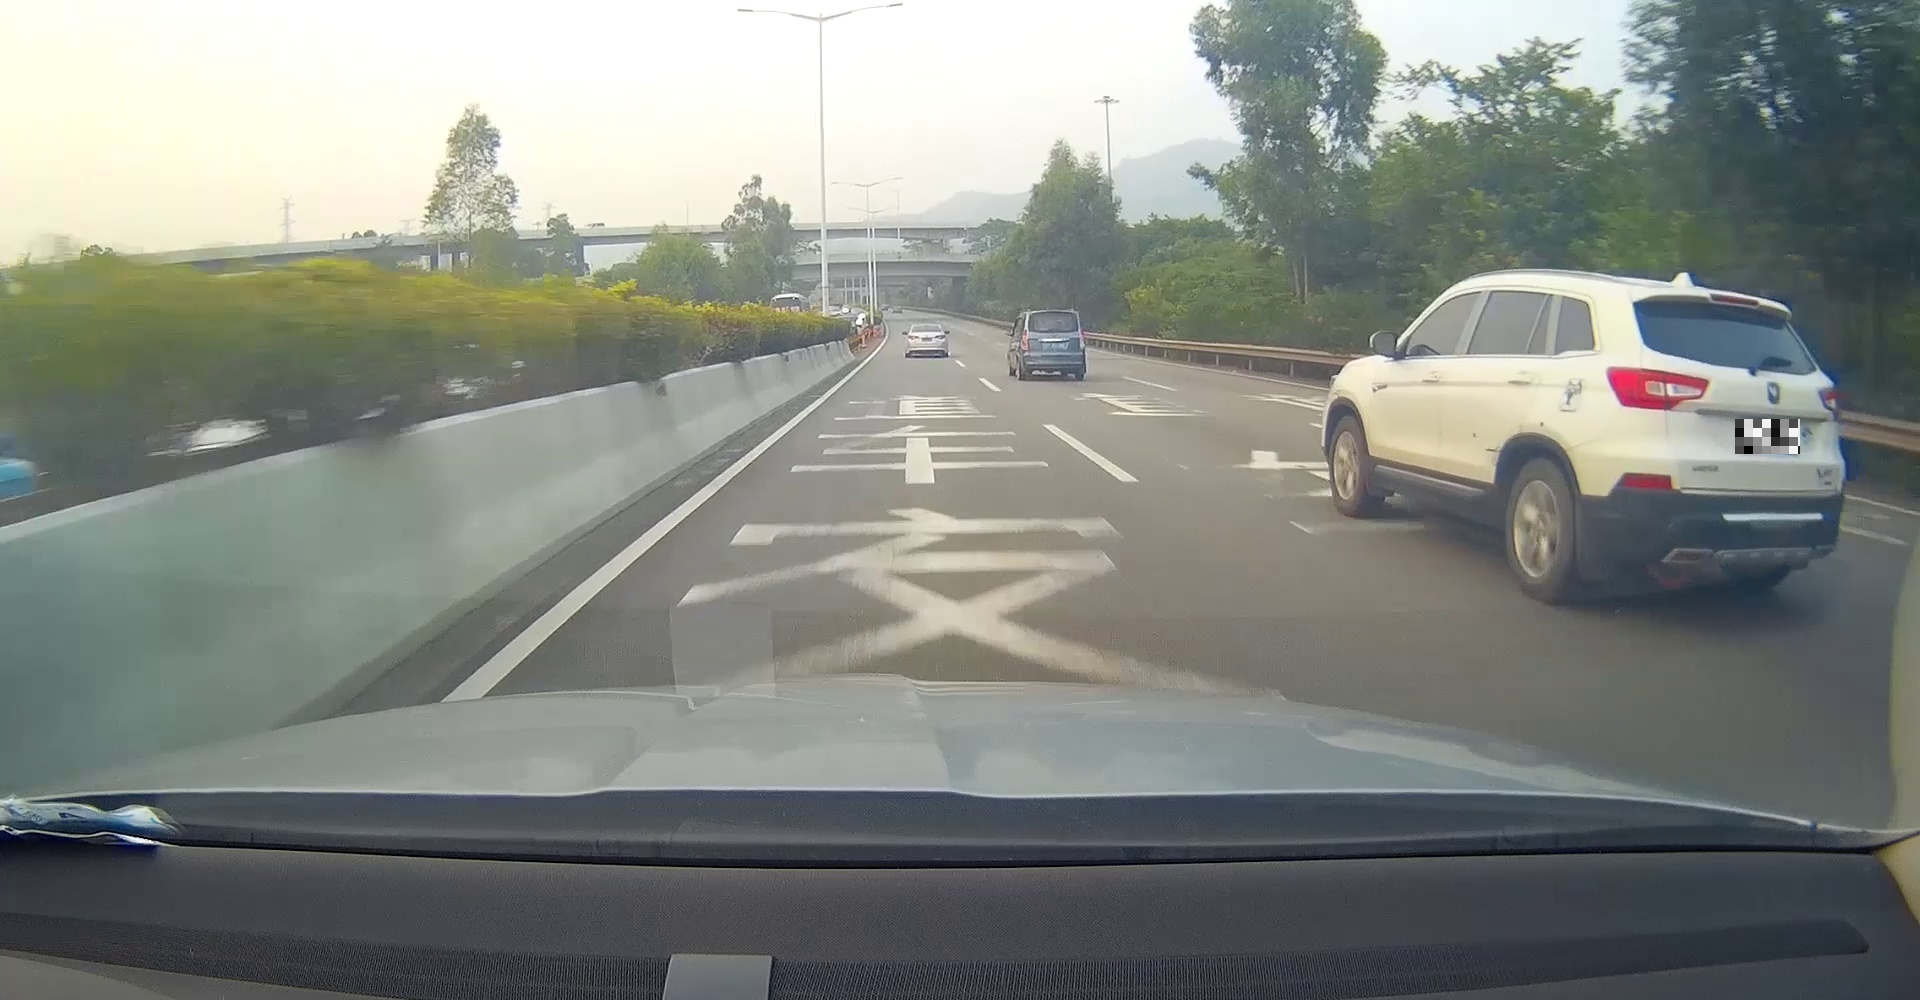L_light: (1606, 365, 1709, 410), (1020, 327, 1029, 350), (908, 336, 919, 340)
R_light: (1818, 385, 1840, 415), (1079, 330, 1084, 349), (936, 334, 946, 339)
T_light: (1709, 293, 1760, 307), (1048, 327, 1060, 331), (923, 326, 931, 327)
day-no: (1596, 280, 1849, 600), (1018, 310, 1087, 379), (905, 322, 949, 358)
plate_1: (1735, 419, 1801, 454)
